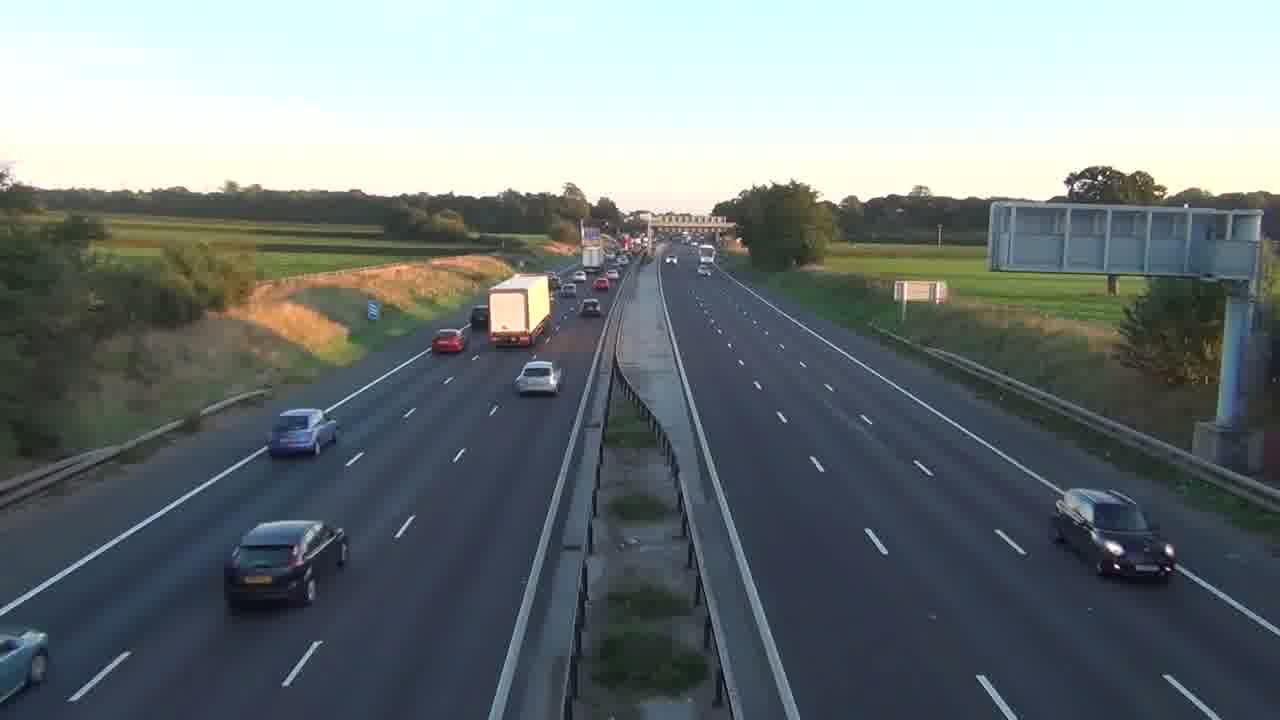car: (1049, 486, 1177, 583), (223, 519, 350, 608), (0, 622, 50, 704), (268, 407, 339, 457), (514, 359, 562, 397), (431, 328, 467, 355), (592, 276, 612, 292)
truck: (487, 274, 551, 347)
